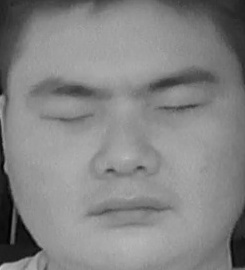blink: (45, 100, 96, 134), (157, 91, 202, 124)
mouth: (84, 186, 174, 234)
